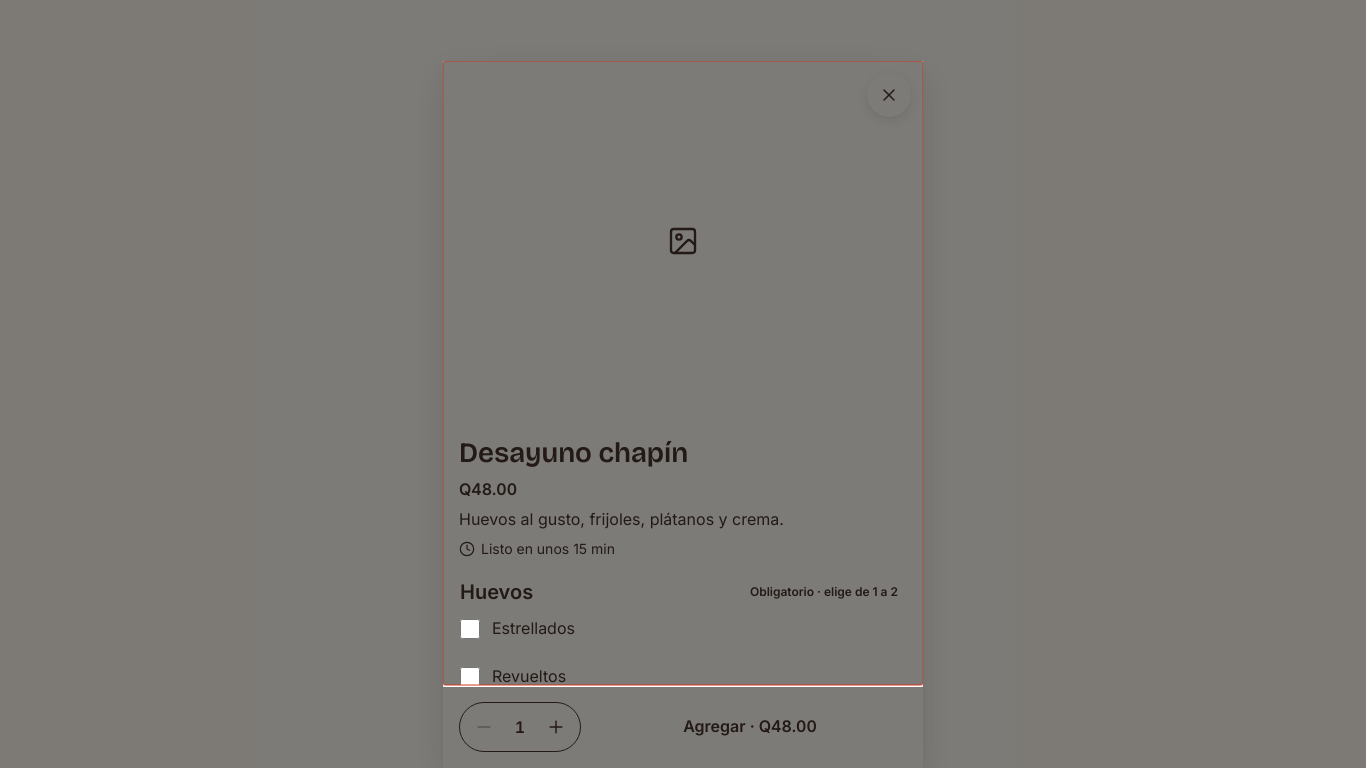
Test: <ProductSheet /> › si falta un obligatorio, lo señala en lugar de agregar
Click the button "Agregar · Q48.00". click: point(750, 727)
box: [593,703,907,751]
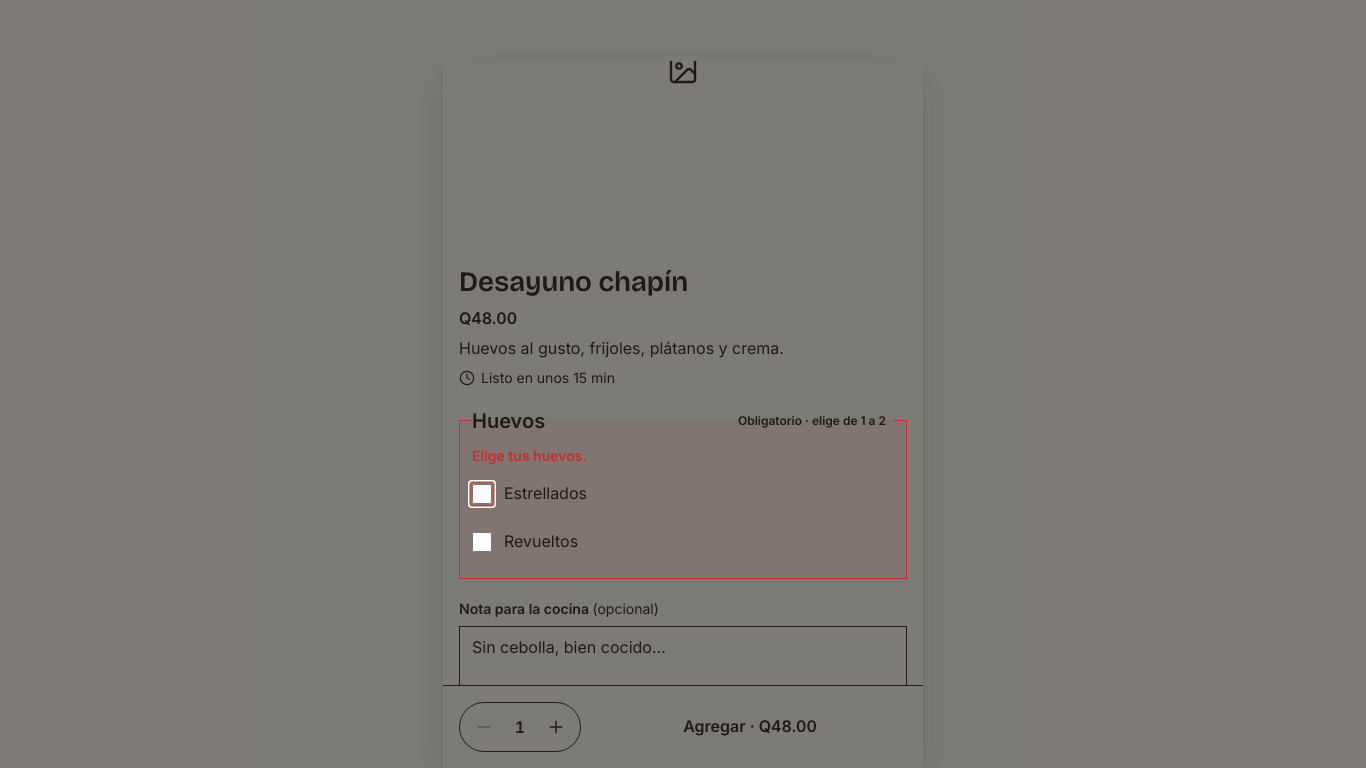
Check: the message reads "Elige tus huevos.", box [472,447,587,464]
